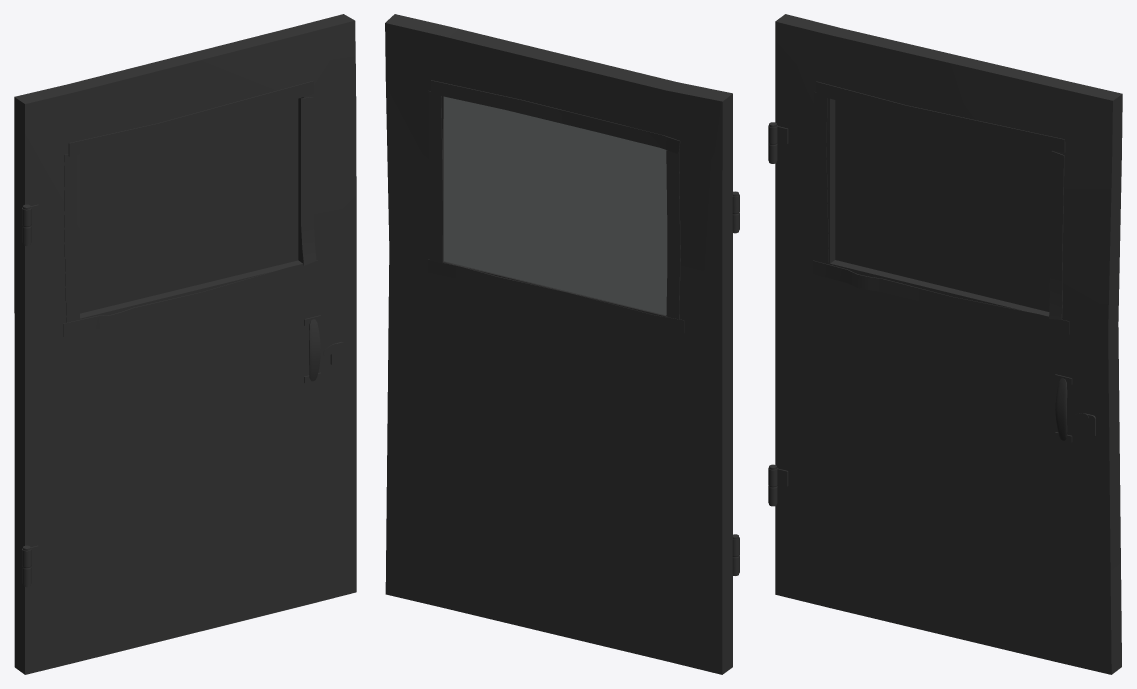
The model's file is SM_Side_Door.FBX.
The picture shows the model from 3 angles, left to right: view 1: azimuth 30°, elevation 25°; view 2: azimuth 150°, elevation 25°; view 3: azimuth 330°, elevation 25°; orthographic projection.
Parts seen in each view (by area): view 1: SM_Side_Door_LOD0; view 2: SM_Side_Door_LOD0; view 3: SM_Side_Door_LOD0.
Part boxes in pixels (left/top/right/bottom): SM_Side_Door_LOD0: left=14, top=14, right=356, bottom=674; SM_Side_Door_LOD0: left=385, top=14, right=739, bottom=674; SM_Side_Door_LOD0: left=768, top=14, right=1122, bottom=674.
Size of what is drawn, in the model's own units: 128 by 11.91 by 208.
